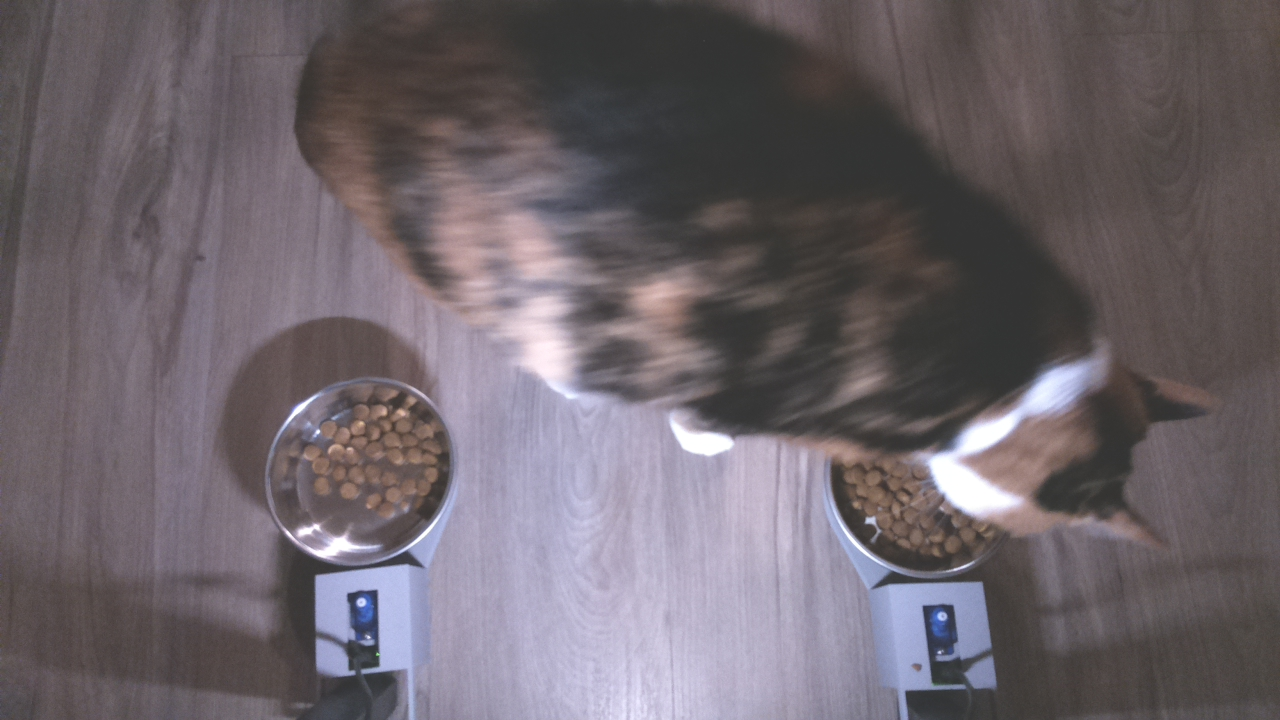bella_eating: (835, 313, 1202, 577)
open_bowl: (269, 376, 459, 569)
